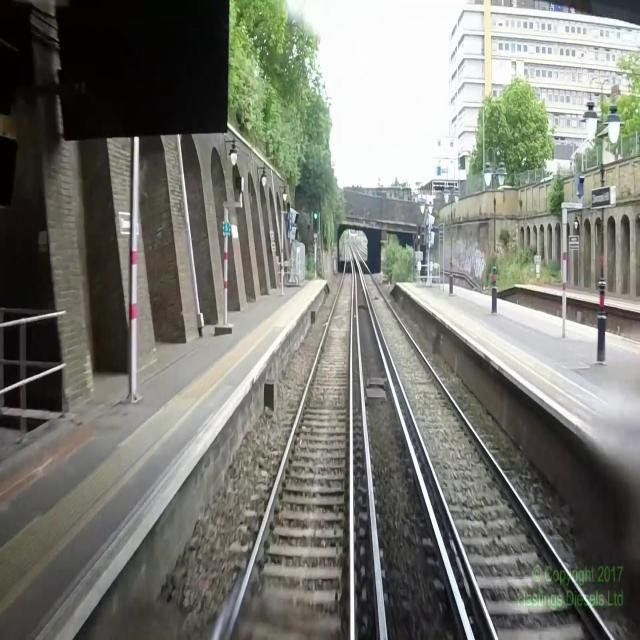rail-track: (350, 243, 608, 639), (229, 243, 352, 639)
